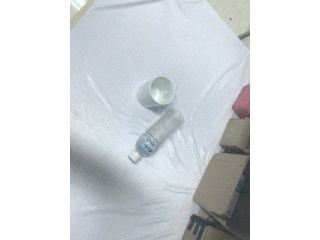bottle: (128, 108, 185, 164)
cup: (136, 76, 175, 108)
